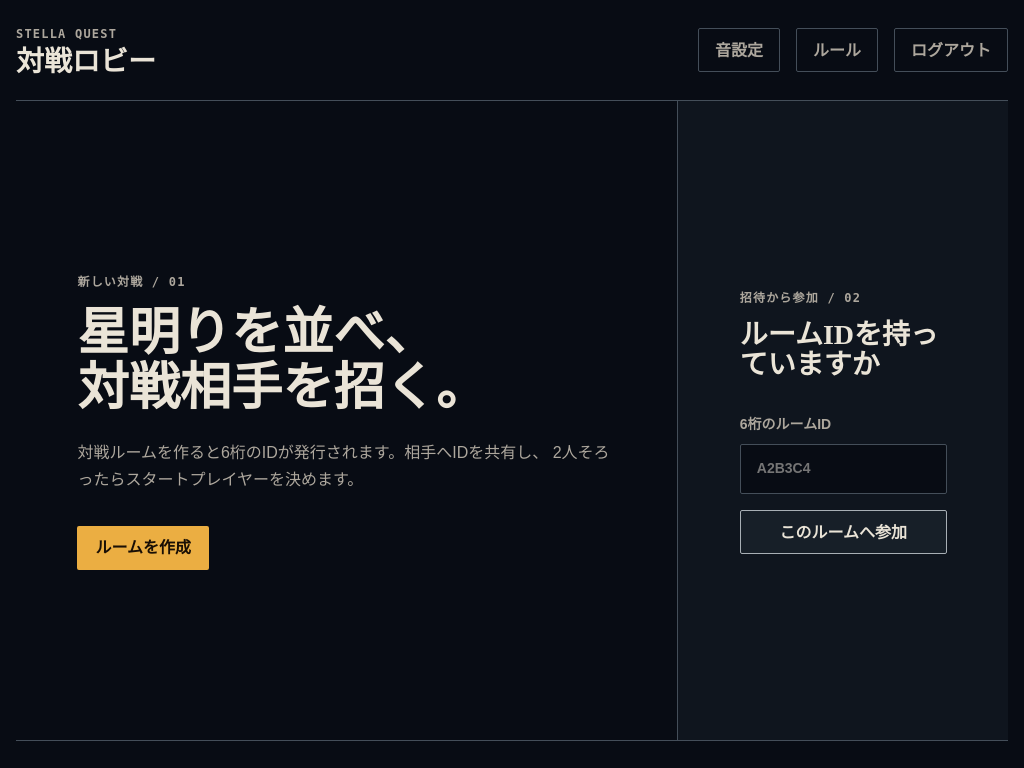
HomePage › ログイン後のホームからルールを確認できる
This screenshot has width=1024, height=768.
Step 1. Click the button "ルール" → (837, 50), box [796,28,878,72]
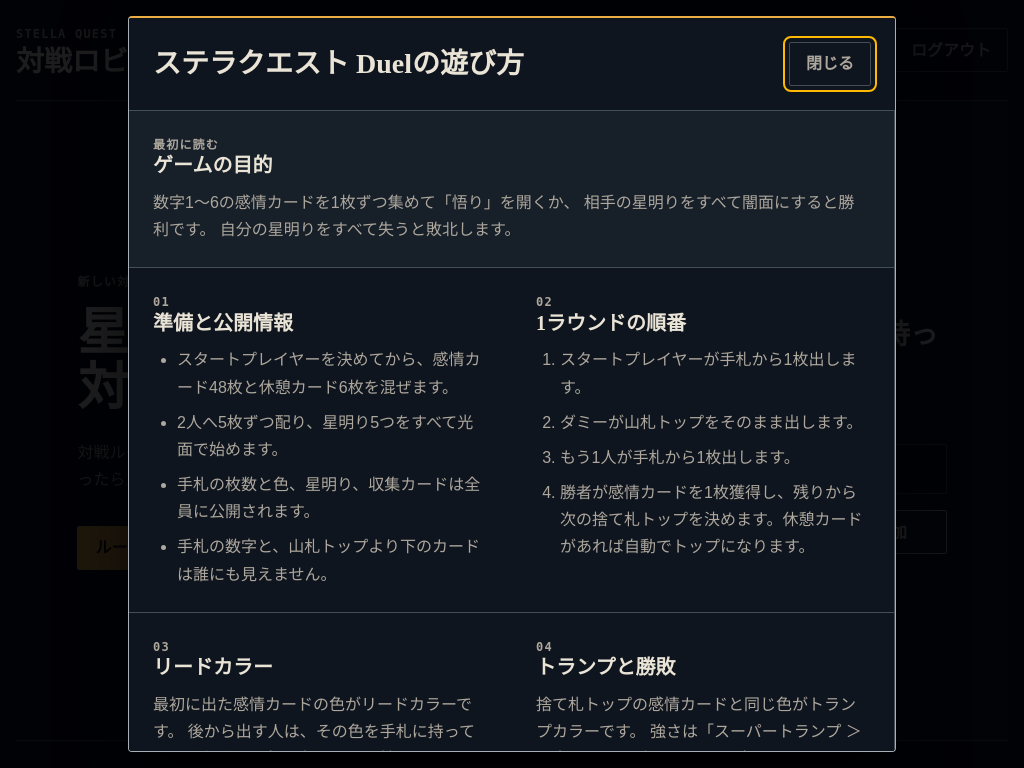
Expected: the dialog "ステラクエスト Duelの遊び方" is shown
Step 2. Press Escape
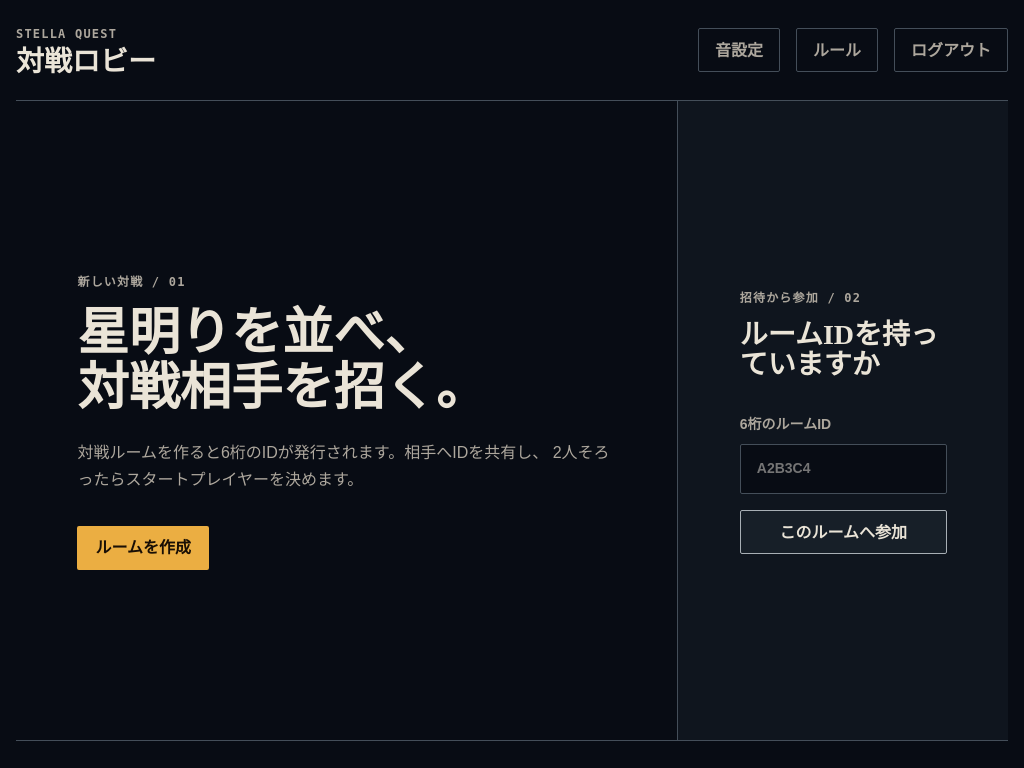
Expected: the dialog is gone
